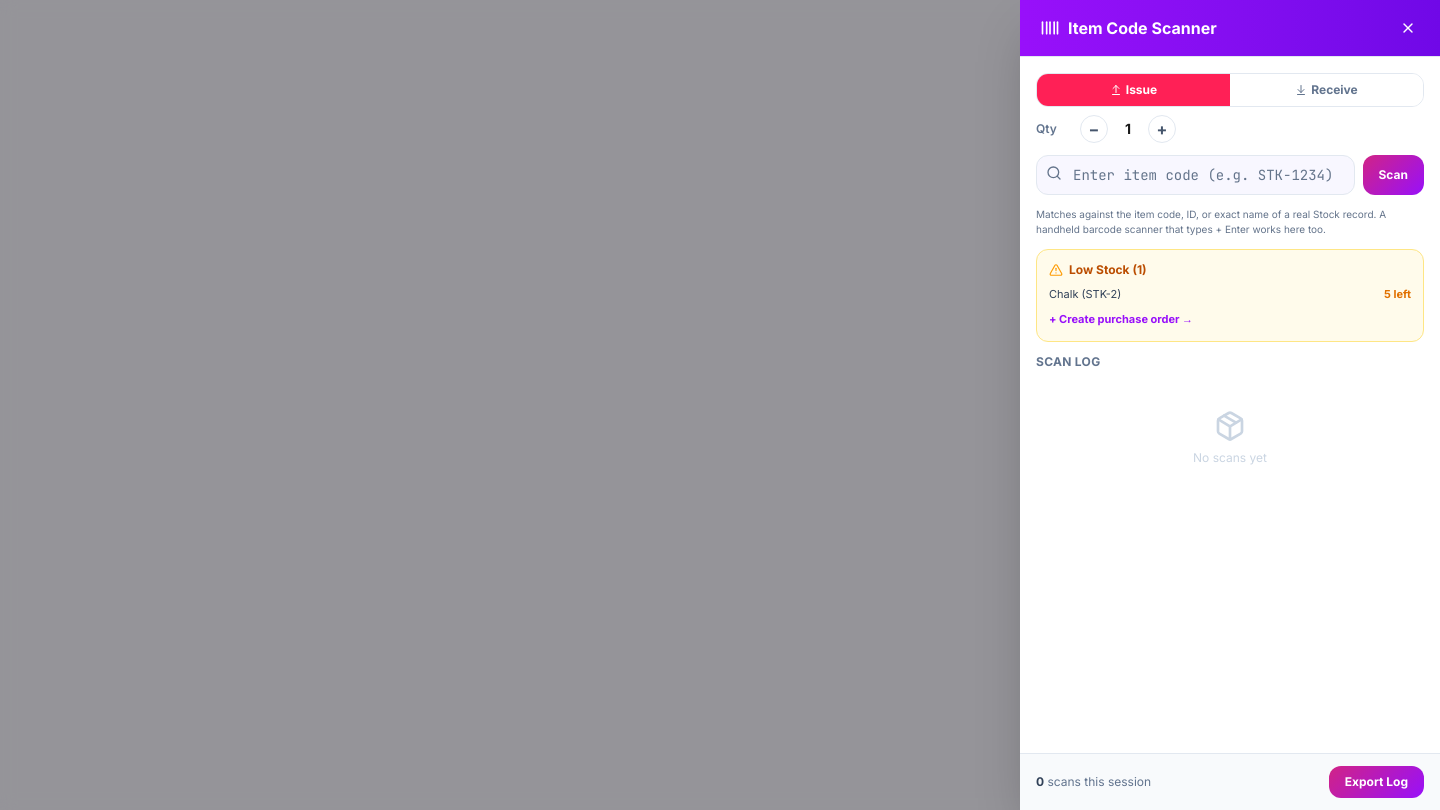
BarcodeScanner › issues stock for a matched item and logs the scan
Type "STK-1" into the field with placeholder "Enter item code (e.g. STK-1234)" at (1195, 175), box [1036, 155, 1354, 195]
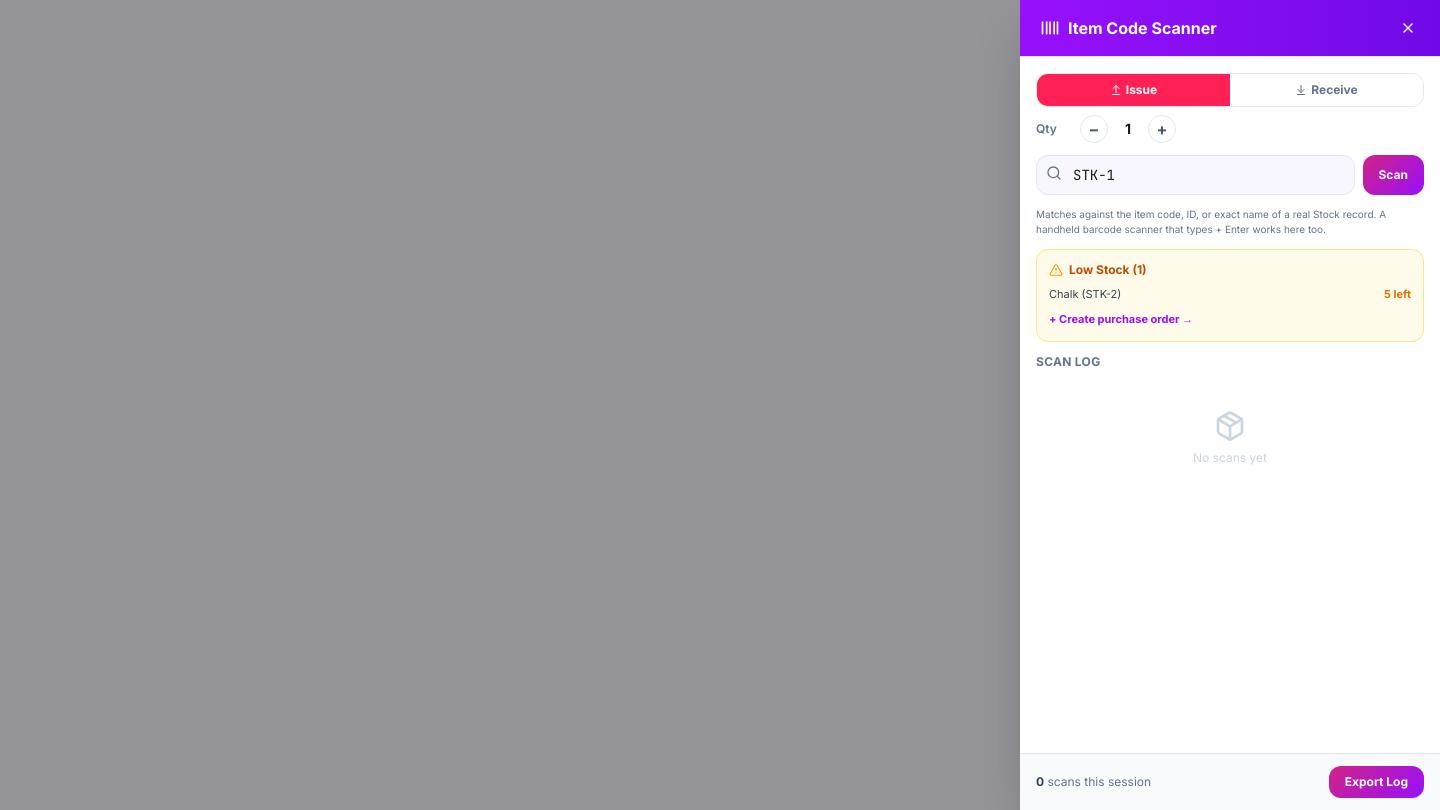
Click the button "Scan" at (1393, 175), box [1362, 155, 1424, 195]
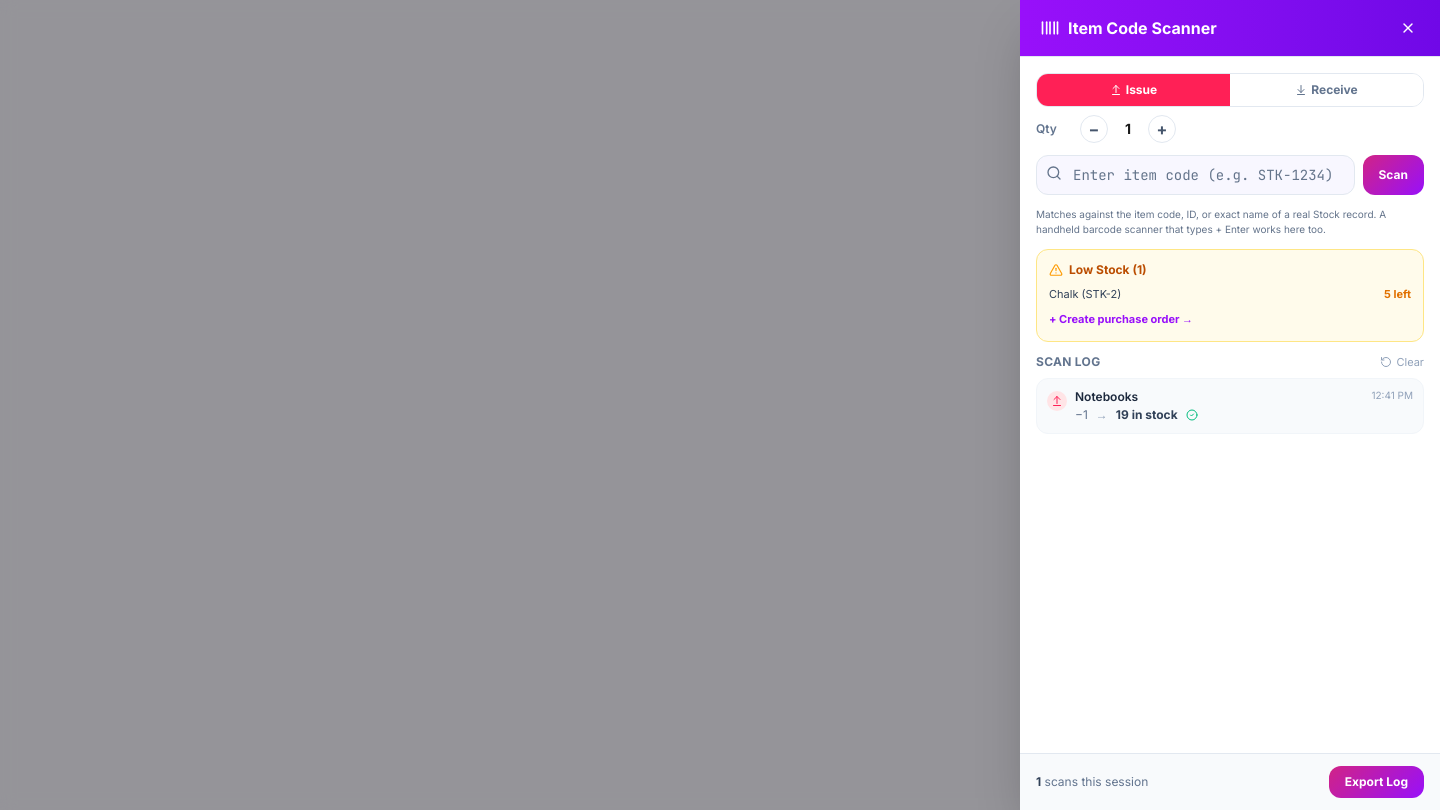
Expected: the text "Notebooks" is shown, [1075, 389, 1138, 404]
